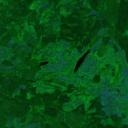alloviz: (72, 48, 92, 73), (39, 60, 49, 67)
